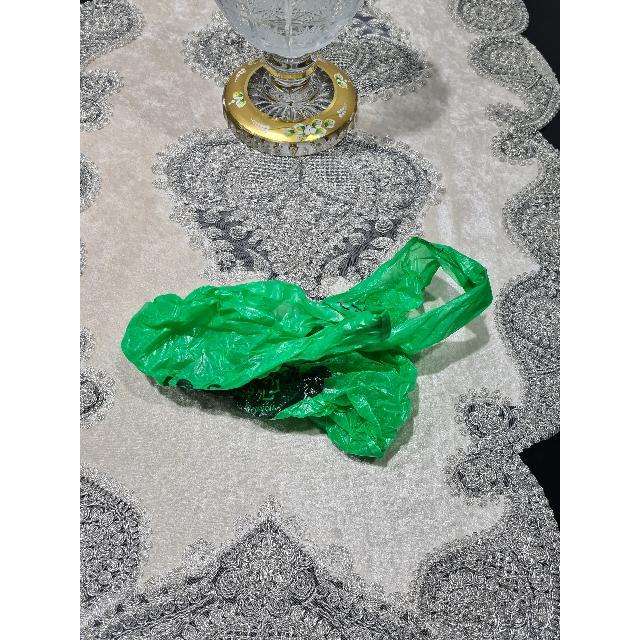Bolsa-de-nilon: (121, 238, 491, 457)
